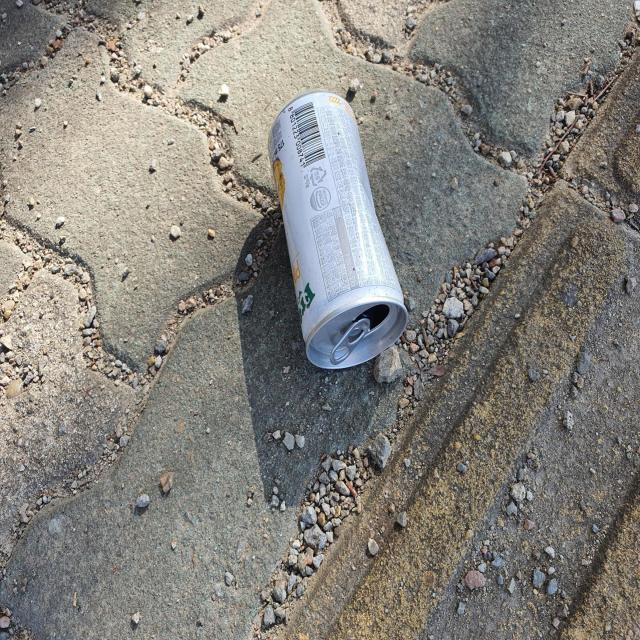can: (268, 90, 408, 369)
